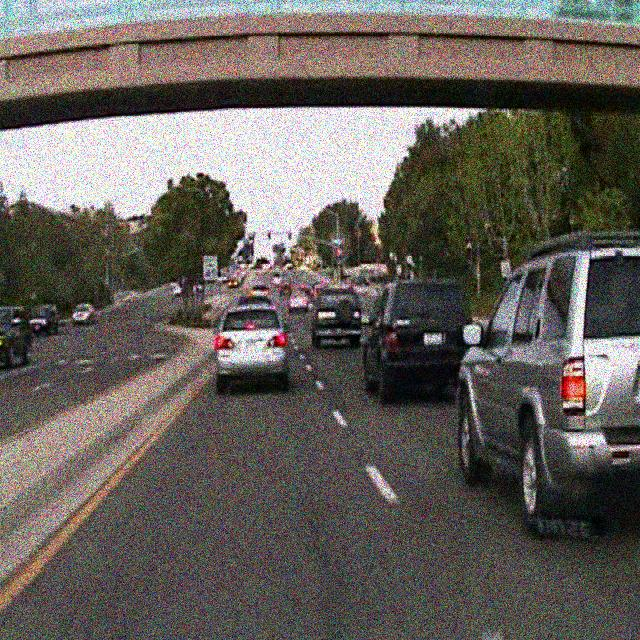speedLimit45: (203, 255, 218, 281)
